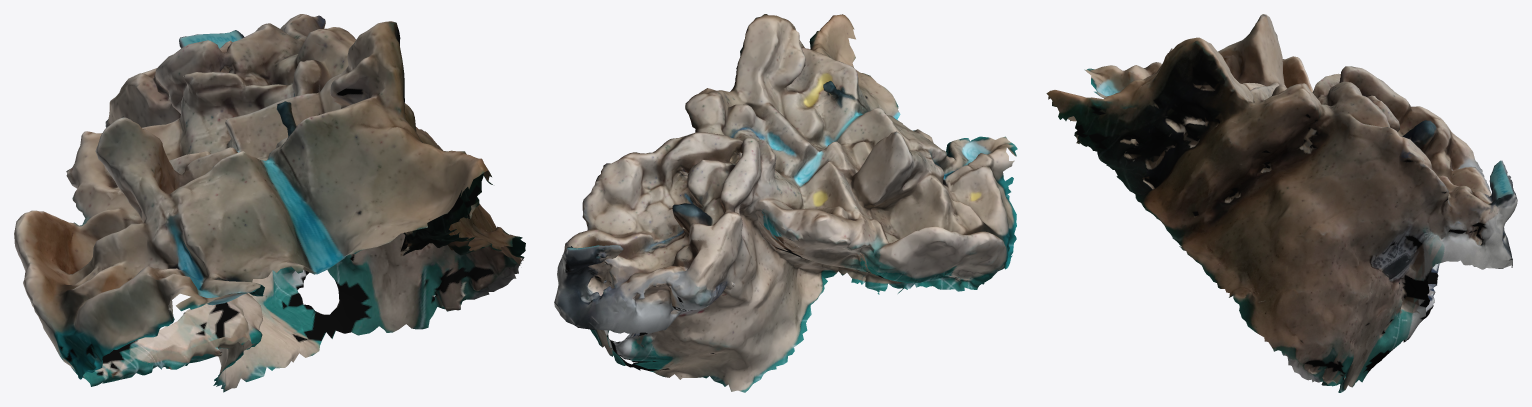
Rendered from PostDropzone30k.fbx.
3 renders of one model, left to right at view 1: azimuth 30°, elevation 25°; view 2: azimuth 150°, elevation 25°; view 3: azimuth 270°, elevation 25°, orthographic. The views are drawn at different scales.
Visible parts, largest first — view 1: Model; view 2: Model; view 3: Model.
Boxes of the visible parts, left/top/right/bottom form: Model: left=14, top=14, right=525, bottom=392; Model: left=554, top=14, right=1017, bottom=392; Model: left=1046, top=14, right=1517, bottom=392.
Size of the model in its own units: 4.99 by 5.11 by 3.8.
Materials: 1 (1 with a texture image).
